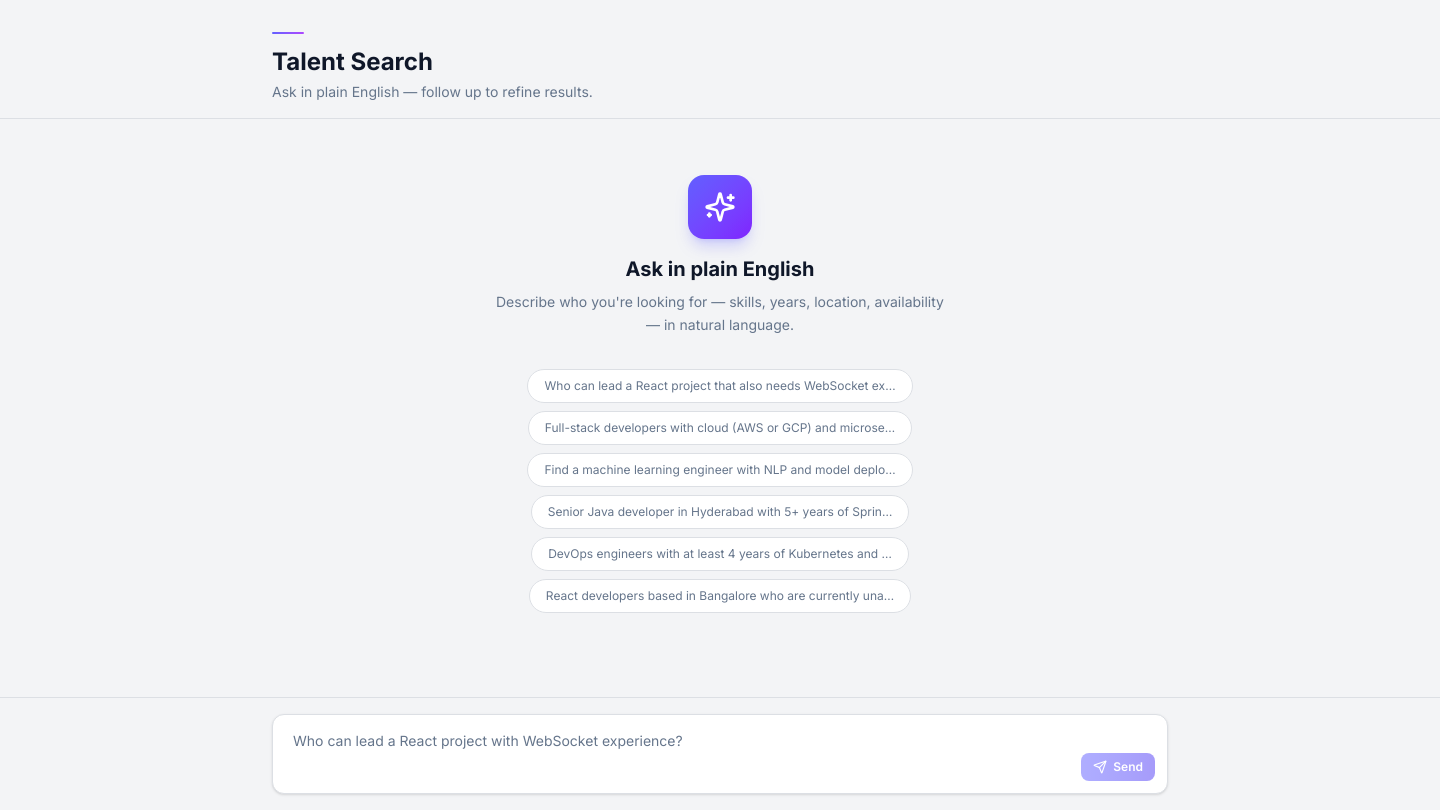
it: SearchPage › Send button enables after typing in textarea
The width and height of the screenshot is (1440, 810).
Type "Find React developers" into the text box at (720, 751), box left=273, top=715, right=1167, bottom=787
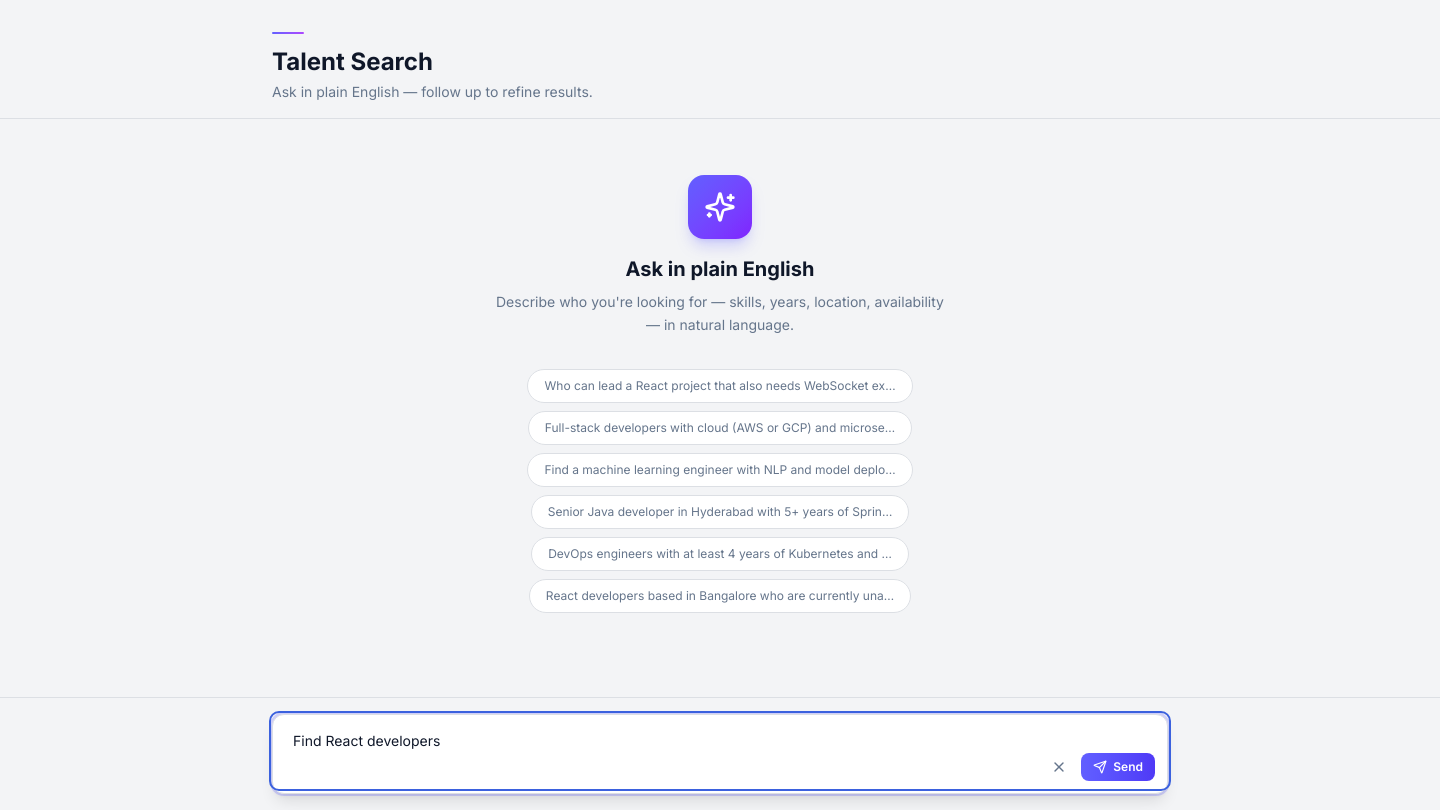
Expected: the button "Send" is enabled, left=1081, top=753, right=1155, bottom=781
